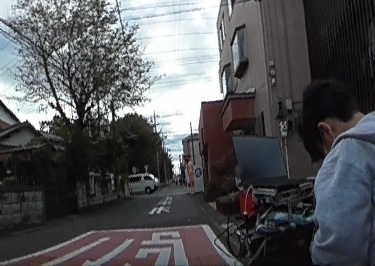person: (284, 84, 375, 266)
